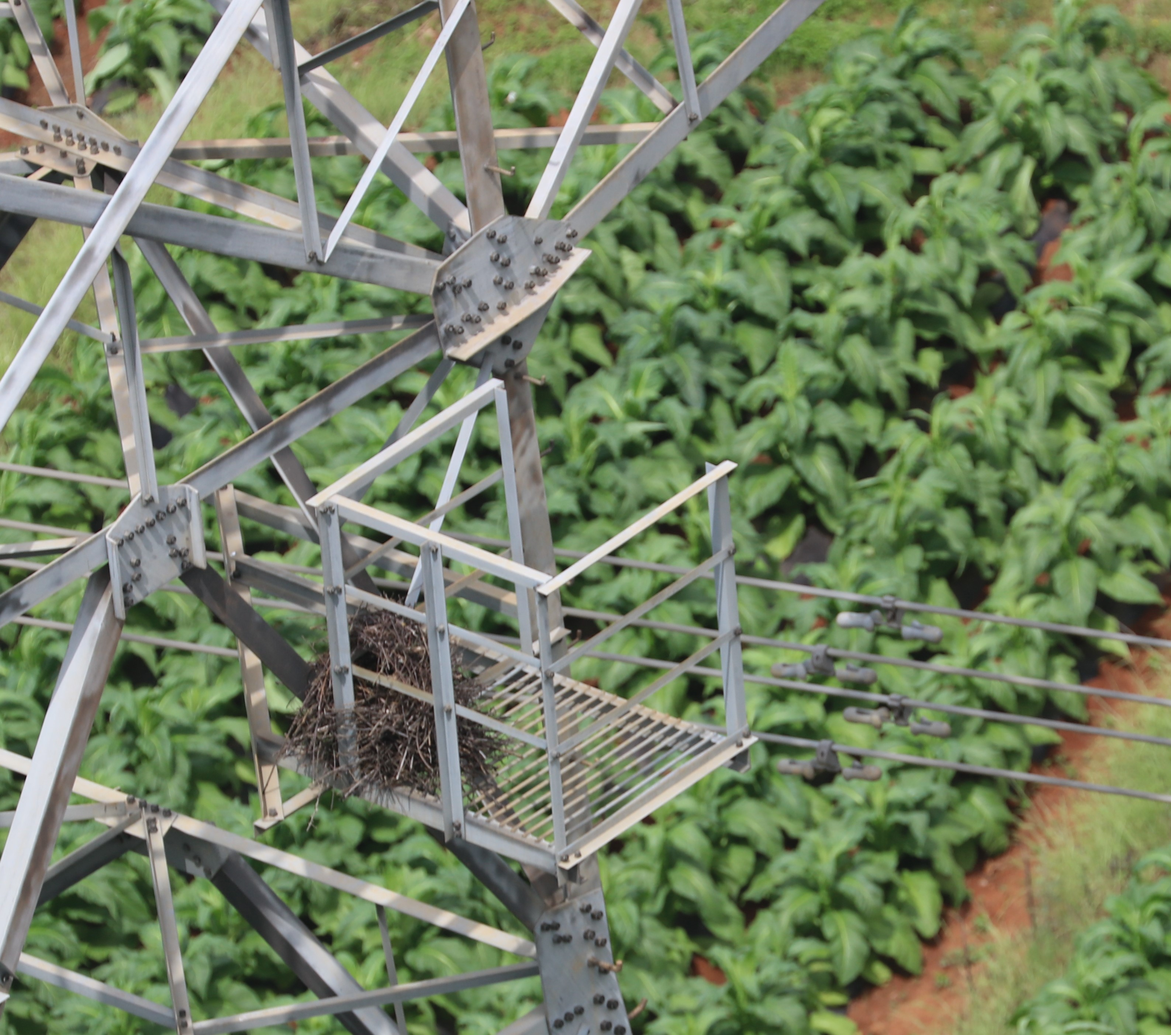damper: (833, 591, 946, 648), (839, 690, 953, 742), (772, 736, 885, 788), (765, 640, 881, 688)
nest: (299, 620, 484, 795)
